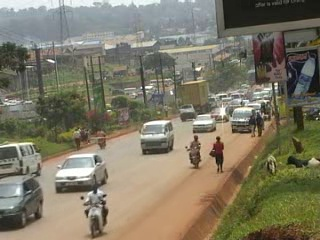Car: (0, 172, 44, 230), (53, 152, 109, 193), (190, 111, 217, 136), (208, 105, 229, 124), (177, 106, 198, 123)
Motorcycle: (78, 184, 111, 238), (89, 124, 112, 155), (182, 135, 203, 167)
